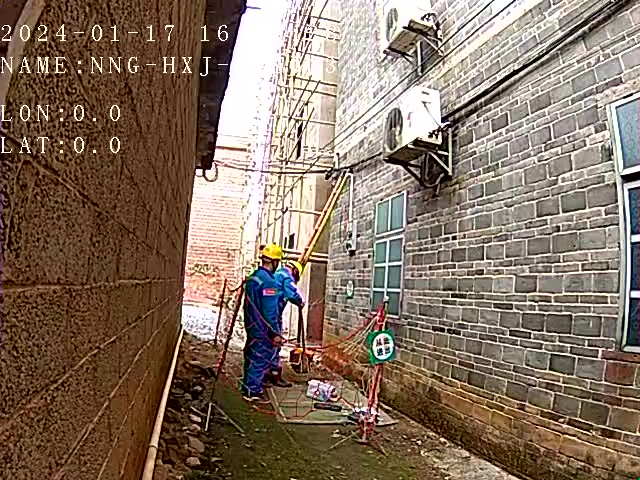halt: (262, 246, 286, 273)
